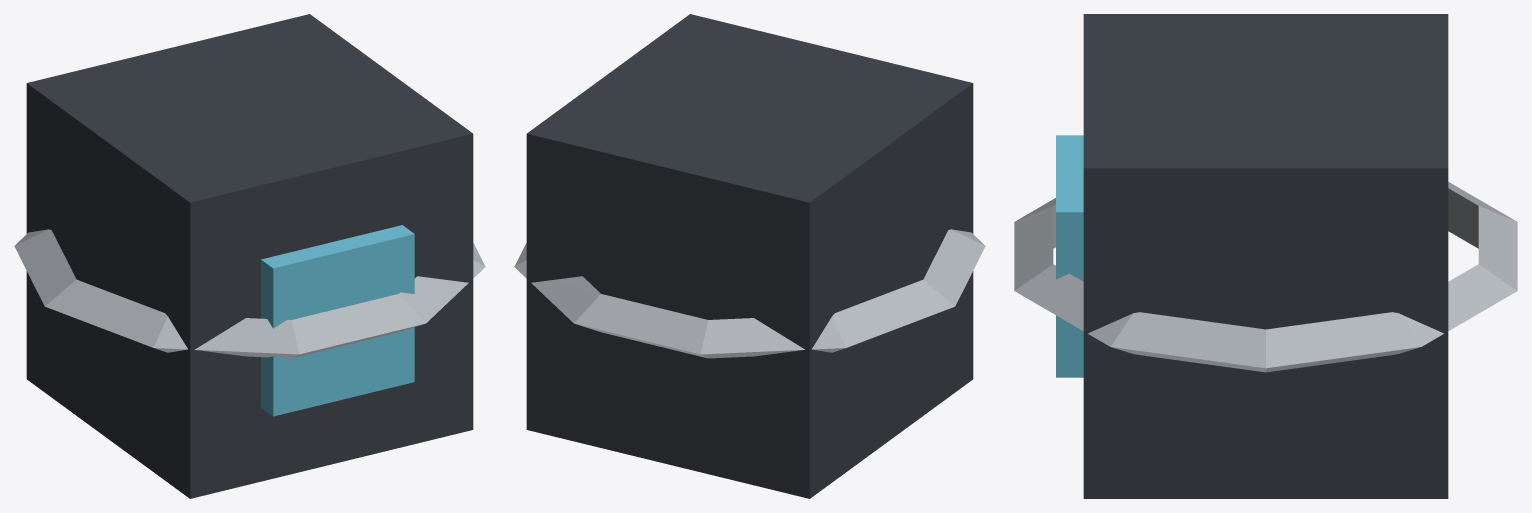
The model's file is mod-generic.lod.glb.
3 renders of one model, left to right at view 1: azimuth 30°, elevation 25°; view 2: azimuth 150°, elevation 25°; view 3: azimuth 270°, elevation 25°, orthographic. The views are drawn at different scales.
Visible parts, largest first — view 1: m; view 2: m; view 3: m.
Part boxes in pixels (left/top/right/bottom): m: left=14, top=14, right=485, bottom=498; m: left=514, top=14, right=985, bottom=498; m: left=1014, top=14, right=1517, bottom=498.
Bounding box in the file's own units: 0.05 × 0.0345 × 0.0476.
